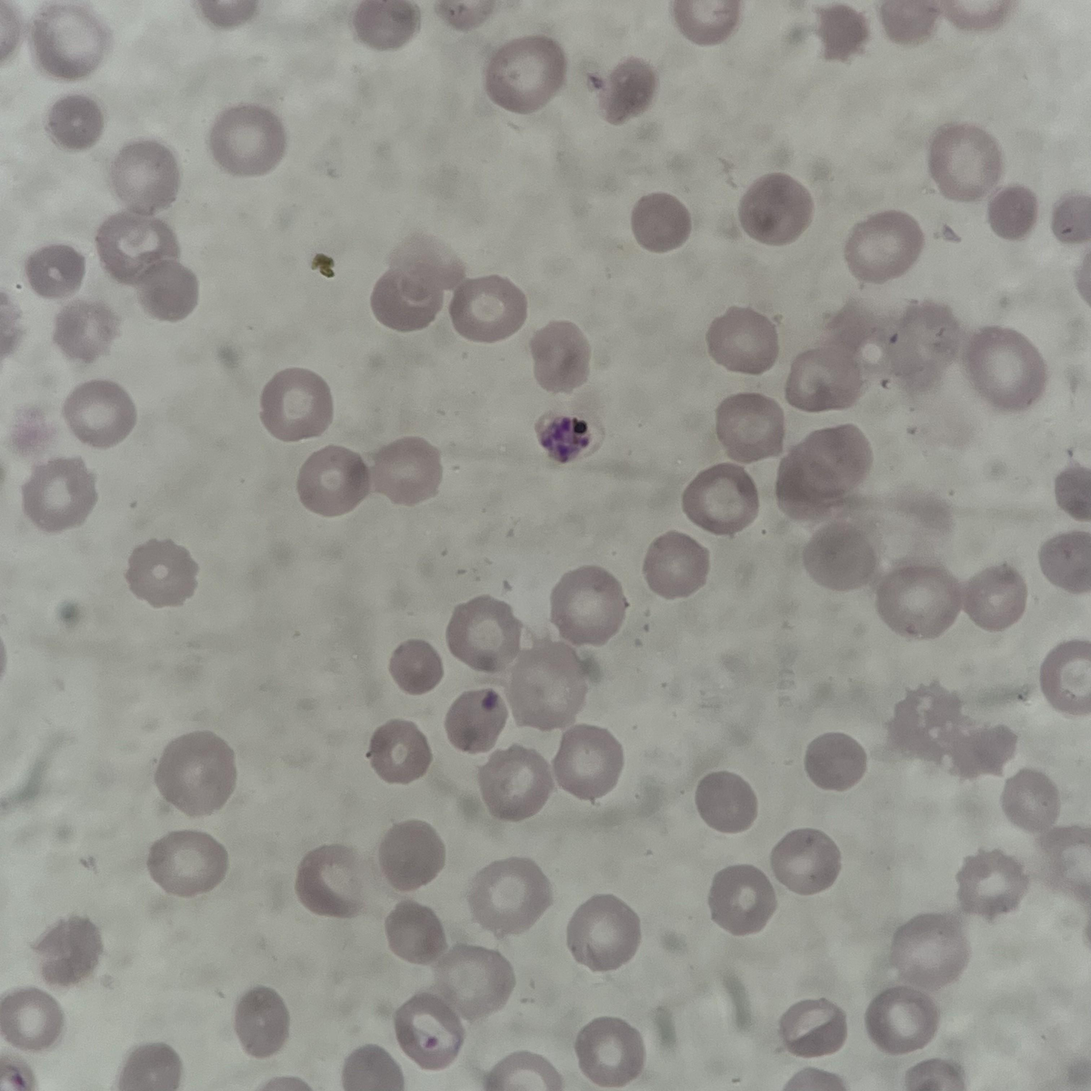Infected: (528, 406, 604, 467)
Uninfected: (156, 728, 244, 816), (488, 31, 571, 121), (960, 326, 1045, 413), (877, 564, 964, 641), (508, 641, 584, 729), (463, 856, 547, 934), (928, 119, 1004, 203), (443, 596, 522, 675), (567, 893, 639, 979), (33, 0, 114, 76), (435, 946, 514, 1022), (211, 99, 288, 176), (95, 210, 174, 285), (739, 170, 819, 244), (849, 208, 923, 287), (782, 347, 866, 416), (18, 458, 95, 533), (264, 363, 338, 441), (298, 840, 370, 920), (112, 137, 183, 218), (292, 444, 368, 518), (392, 996, 463, 1074), (593, 50, 660, 132), (573, 1013, 643, 1091), (706, 304, 780, 377), (122, 535, 199, 605), (148, 830, 225, 899), (376, 816, 442, 896), (556, 722, 621, 802), (802, 422, 873, 495), (453, 277, 530, 344), (895, 913, 965, 986), (65, 375, 133, 449), (550, 572, 626, 638), (869, 984, 939, 1055), (717, 389, 784, 463), (372, 432, 438, 507), (480, 749, 551, 818), (956, 848, 1028, 916), (37, 915, 102, 990), (802, 523, 872, 591), (684, 466, 756, 532), (707, 868, 773, 939), (368, 271, 445, 330), (534, 316, 593, 392), (690, 769, 757, 835), (962, 562, 1028, 629), (778, 994, 847, 1058), (774, 828, 840, 894), (0, 984, 65, 1051), (368, 722, 433, 787), (136, 257, 199, 323), (640, 537, 710, 596), (780, 448, 837, 520), (234, 982, 288, 1058), (57, 298, 119, 364), (112, 1040, 191, 1091), (1036, 639, 1091, 710), (449, 689, 509, 754), (627, 192, 696, 248), (999, 763, 1059, 827), (388, 901, 446, 966), (26, 241, 86, 303), (806, 730, 865, 792), (45, 95, 104, 153), (388, 637, 446, 692), (987, 182, 1036, 240)
